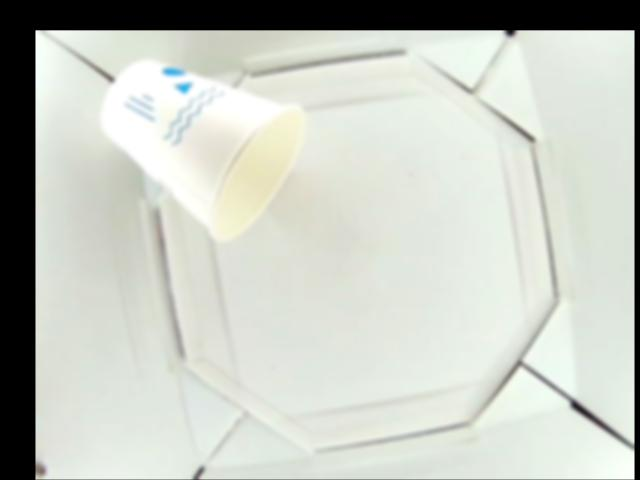Cup: (100, 59, 305, 242)
